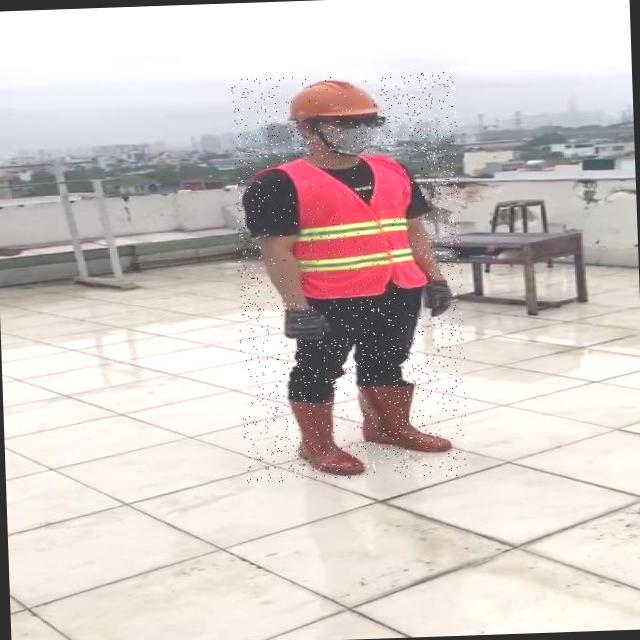boots: (276, 386, 368, 480), (359, 380, 462, 454)
gloves: (420, 259, 468, 320), (268, 294, 324, 342)
helmet: (280, 76, 382, 122)
vest: (259, 152, 428, 301)
